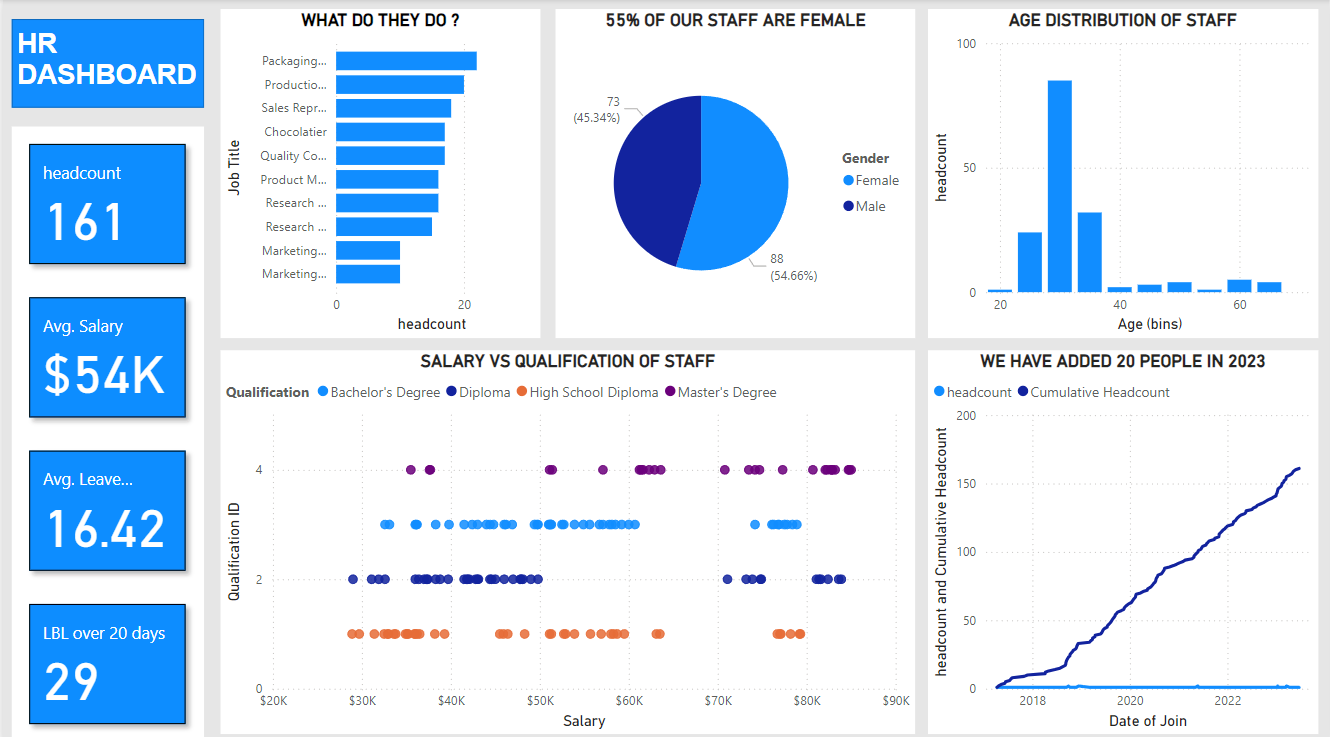

This screenshot's page, from the dashboard's own definition file:
{"tool":"powerbi","page":{"name":"DASHBOARD","canvas":[1280,720],"ordinal":9},"visuals":[{"type":"cardVisual","fields":{"Data":["staff.headcount","staff.Avg. Salary","staff.Avg. Leave Balance","staff.LBL over 20 days"]},"box":[8.4,123.1,185.8,597.2],"z":0},{"type":"clusteredBarChart","title":"WHAT DO THEY DO ?","fields":{"Category":["staff.Job Title"],"Y":["staff.headcount"]},"box":[209.9,9.7,308.8,317.3],"z":1000},{"type":"pieChart","title":"55% OF OUR STAFF ARE FEMALE","fields":{"Category":["staff.Gender"],"Y":["staff.headcount"]},"box":[533.2,9.7,347.5,317.3],"z":2000},{"type":"columnChart","title":"AGE DISTRIBUTION OF STAFF","fields":{"Y":["staff.headcount"],"Category":["staff.Age (bins)"]},"box":[892.8,9.7,376.4,317.3],"z":3000},{"type":"scatterChart","title":"SALARY VS QUALIFICATION OF STAFF","fields":{"X":["staff.Salary"],"Y":["Qual.Qualification ID"],"Series":["Qual.Qualification"]},"box":[209.9,339,670.8,370.4],"z":4000},{"type":"lineChart","title":"WE HAVE ADDED 20 PEOPLE IN 2023","fields":{"Y":["staff.headcount","staff.Cumulative Headcount"],"Category":["staff.Date of Join"]},"box":[892.8,339,376.4,370.4],"z":5000},{"type":"shape","box":[8.4,19.3,185.8,85.7],"z":6000},{"type":"textbox","box":[8,23,228,111],"z":7000}]}

Visuals, with their boxes in screenshot pixels (x1, y1, x2, y2), scaled from the page's 1280x720 canvas onto the 1330x737 screenshot:
cardVisual - staff.headcount x staff.Avg. Salary: <region>9, 126, 202, 736</region>
"WHAT DO THEY DO ?" clusteredBarChart: <region>218, 10, 539, 335</region>
"55% OF OUR STAFF ARE FEMALE" pieChart: <region>554, 10, 915, 335</region>
"AGE DISTRIBUTION OF STAFF" columnChart: <region>928, 10, 1319, 335</region>
"SALARY VS QUALIFICATION OF STAFF" scatterChart: <region>218, 347, 915, 726</region>
"WE HAVE ADDED 20 PEOPLE IN 2023" lineChart: <region>928, 347, 1319, 726</region>
shape: <region>9, 20, 202, 107</region>
textbox: <region>8, 24, 245, 137</region>
